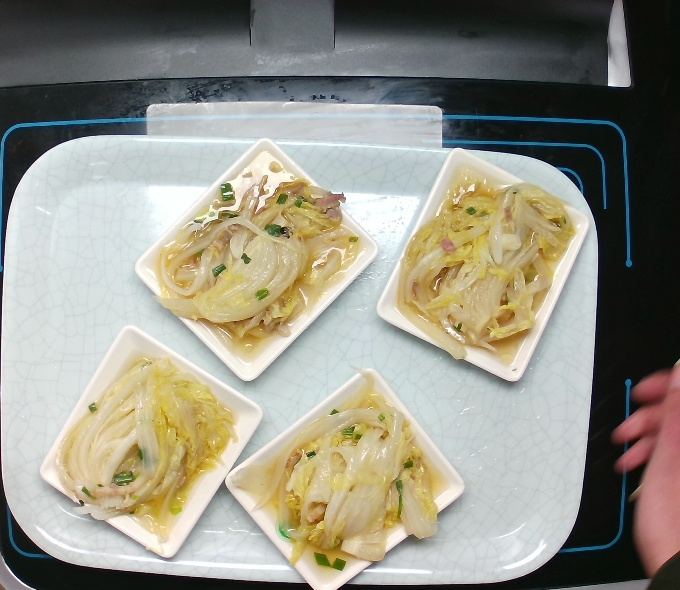wcq-DaBaiCaiRouMou: (146, 146, 369, 365), (230, 364, 450, 582), (391, 160, 581, 368), (51, 351, 245, 552)
